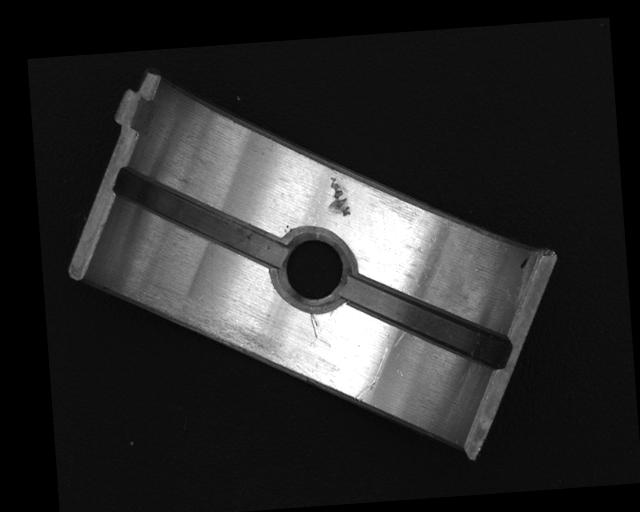blot: (517, 253, 534, 269)
bruise: (328, 175, 352, 218)
gap: (114, 158, 289, 278), (341, 267, 509, 377)
hole: (270, 226, 356, 310)
nick: (351, 343, 394, 400), (309, 312, 320, 339)
scratch: (133, 275, 284, 373)
